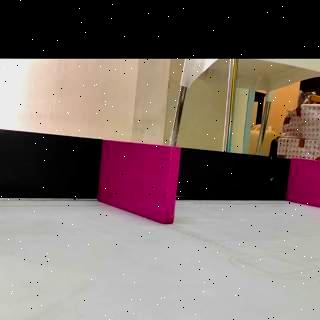xparking: (103, 148, 176, 220), (294, 160, 320, 205)
